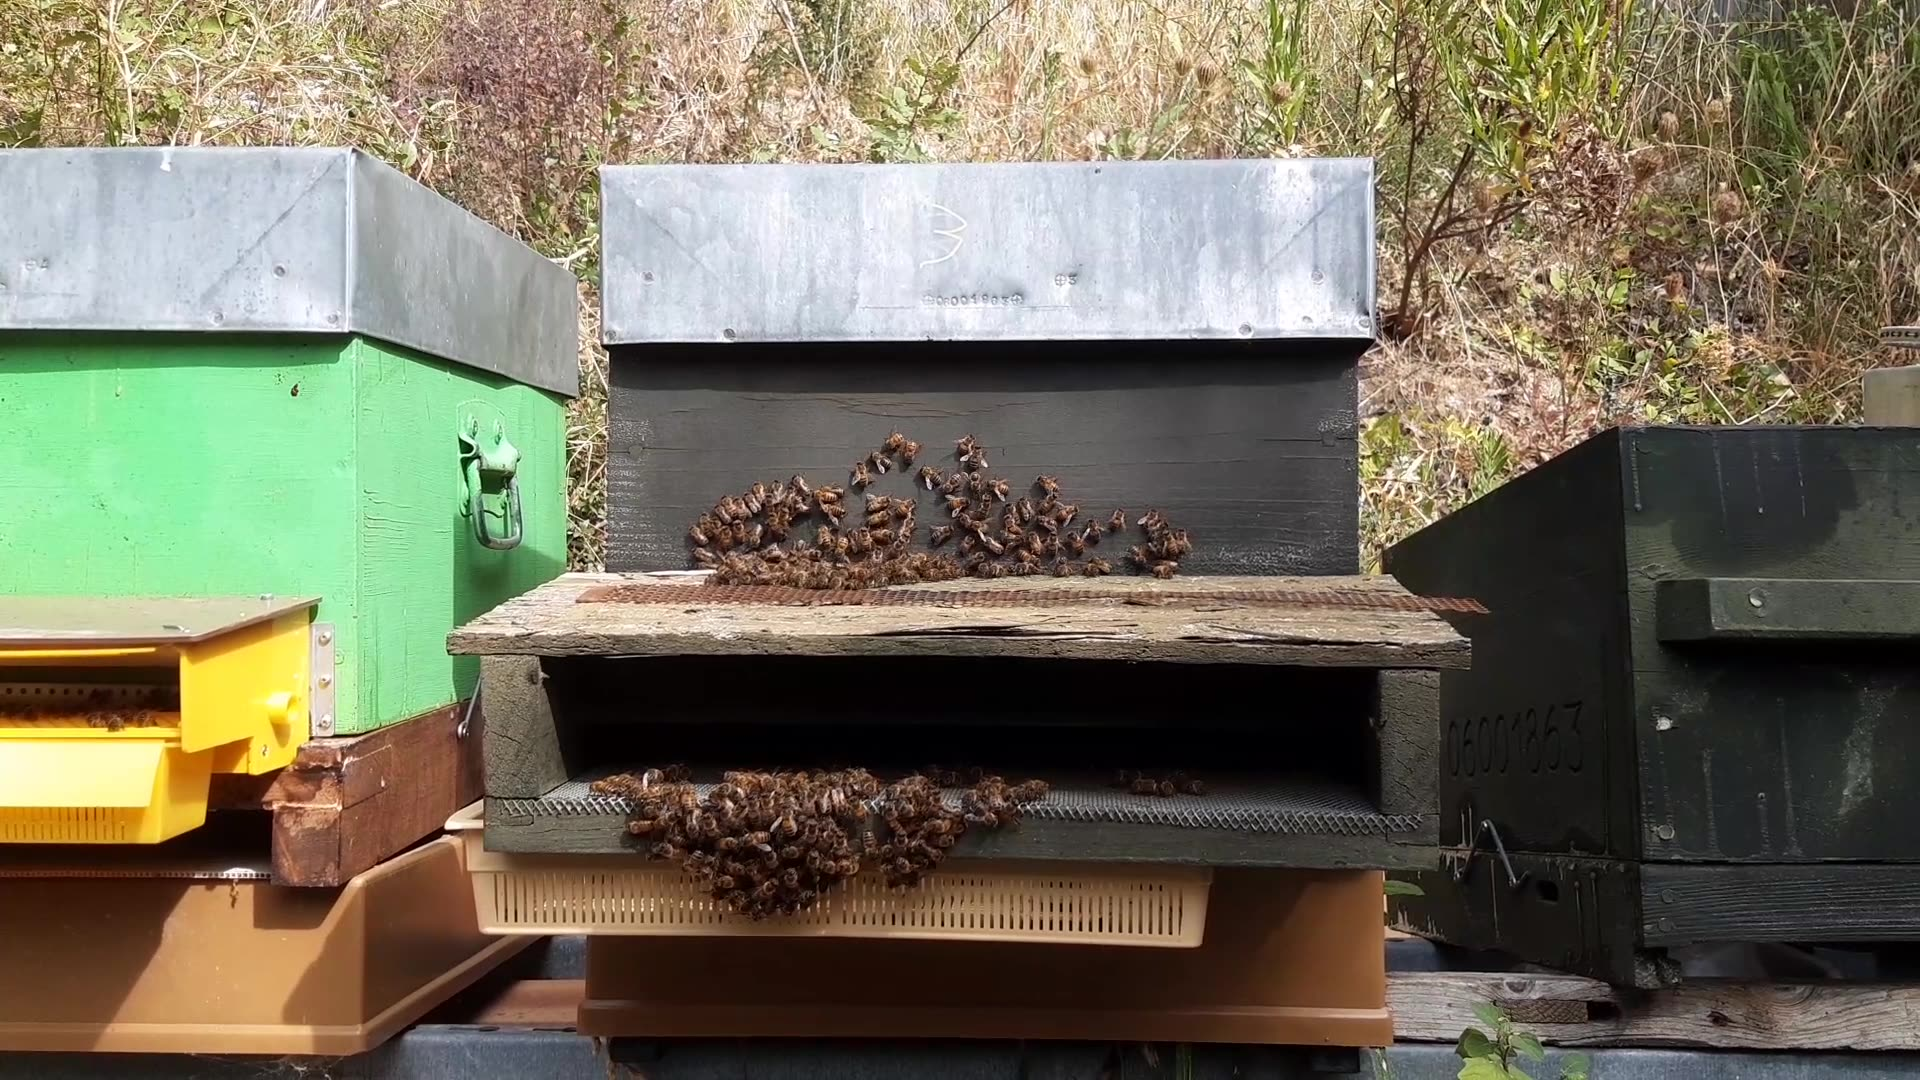bee: (939, 512, 1022, 592), (723, 858, 807, 935), (1104, 514, 1182, 576), (597, 781, 684, 836), (855, 516, 928, 579), (1011, 512, 1080, 568), (862, 454, 932, 502), (711, 512, 786, 556), (942, 458, 1006, 506), (682, 866, 740, 919), (1371, 302, 1422, 357), (749, 488, 811, 530), (1005, 488, 1054, 533)
